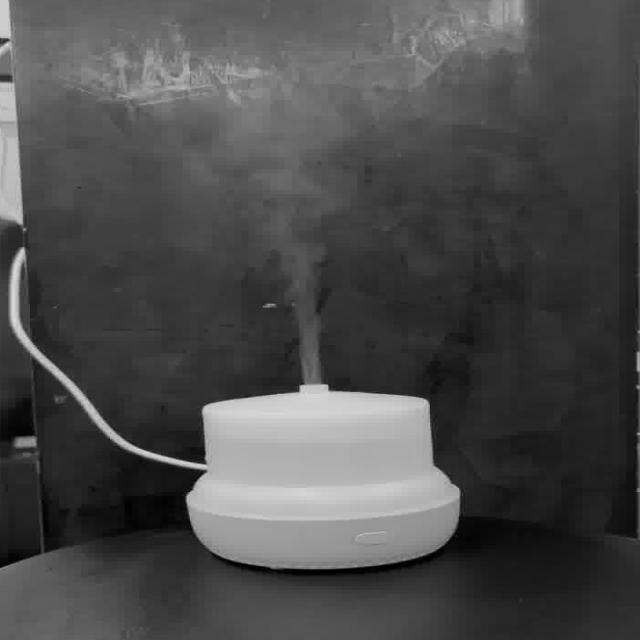fire: (168, 110, 378, 380)
